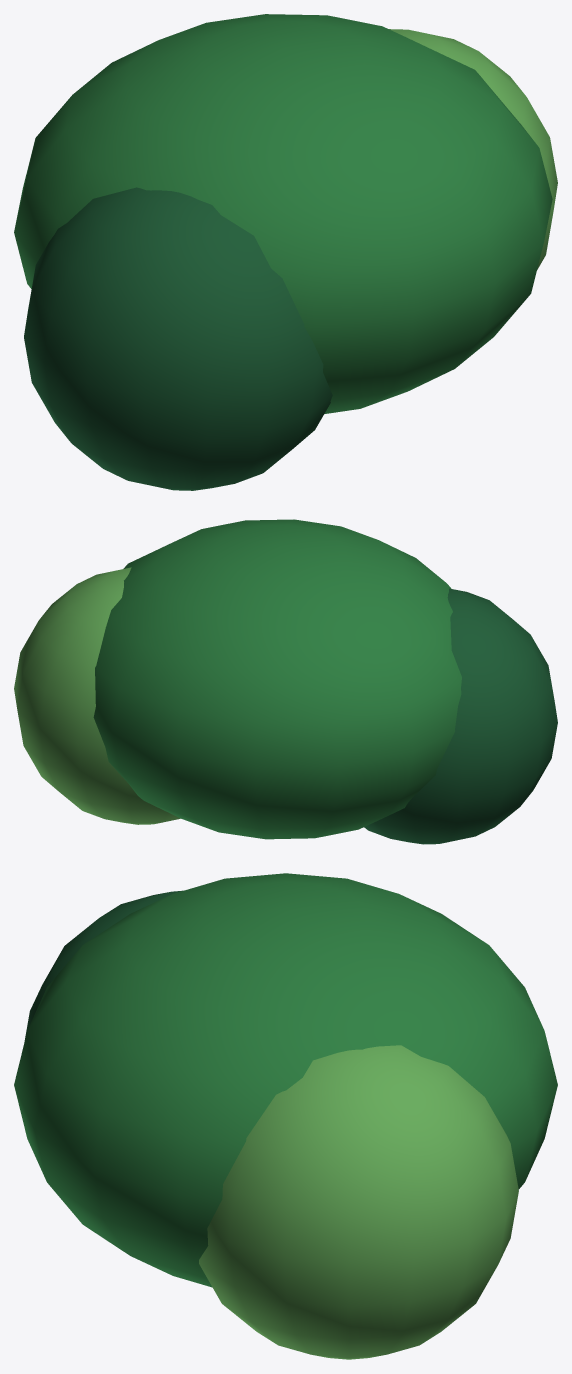
The picture shows the model from 3 angles, top to bottom: view 1: azimuth 30°, elevation 25°; view 2: azimuth 150°, elevation 25°; view 3: azimuth 270°, elevation 25°; orthographic projection. The views are drawn at different scales.
Parts seen in each view (by area): view 1: round-shrub; view 2: round-shrub; view 3: round-shrub.
Boxes of the visible parts, x1,y1,x2,y2 form: round-shrub: (14,14,557,490); round-shrub: (14,519,557,844); round-shrub: (14,873,557,1359).
Size of the model in its own units: 0.864 by 0.5248 by 0.6912.
